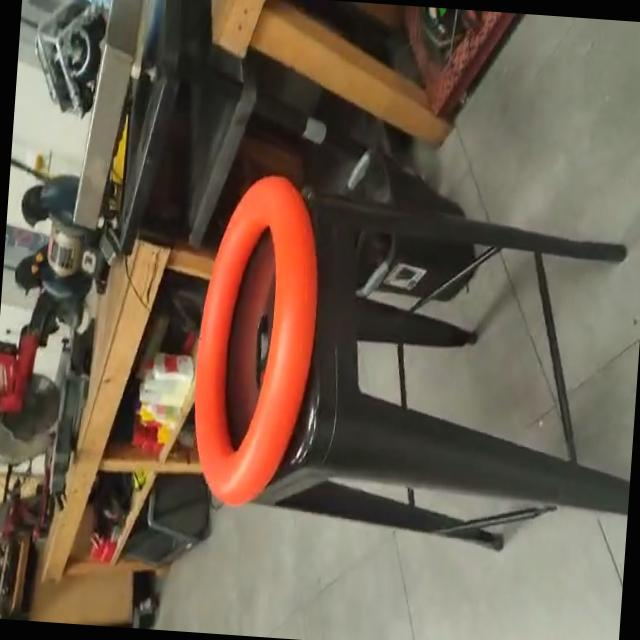note: (181, 168, 329, 516)
